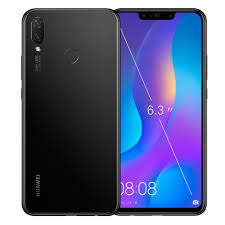huawei: (17, 3, 120, 216), (113, 3, 209, 215)
